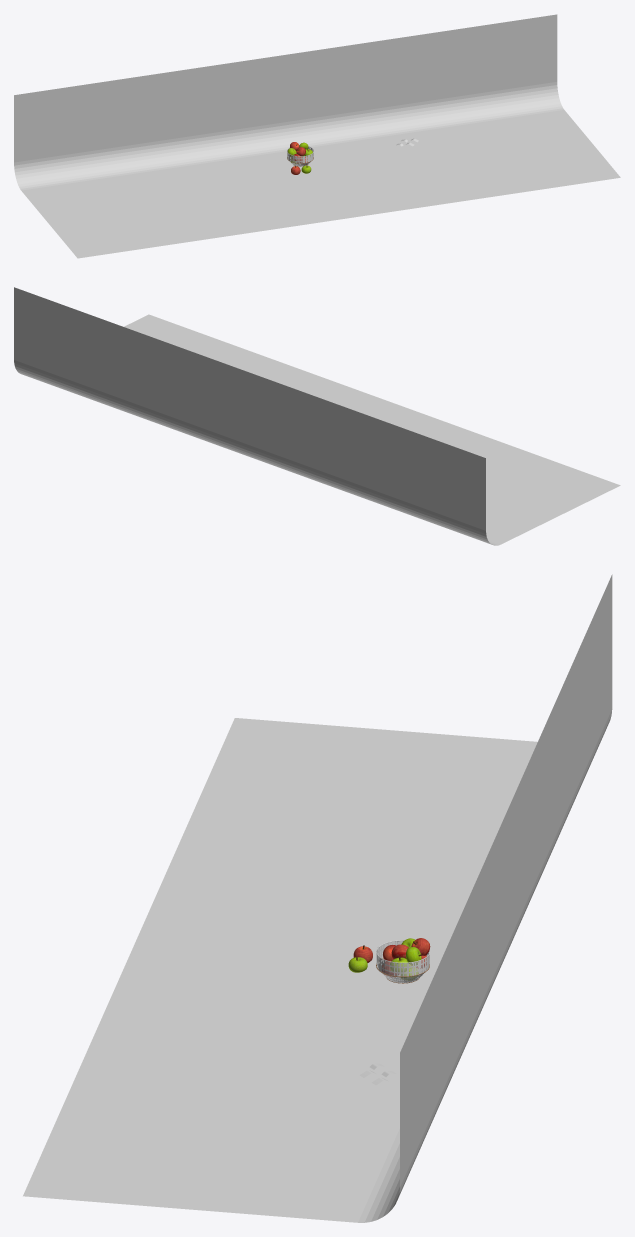
Rendered from basket_full_of_apples.dae.
3 views of the same model, one above another, from view 1: azimuth 30°, elevation 25°; view 2: azimuth 150°, elevation 25°; view 3: azimuth 270°, elevation 25° (orthographic). The views are drawn at different scales.
Parts seen in each view (by area): view 1: Cube; view 2: Cube; view 3: Cube, posuda1.
Part boxes in pixels (bbox=[...]): Cube: bbox=[14, 14, 620, 258]; Cube: bbox=[14, 287, 620, 545]; Cube: bbox=[23, 574, 612, 1222]; posuda1: bbox=[376, 941, 429, 982].
Bounding box in the file's own units: 27.81 × 13.63 × 4.55.
21 materials, 14 textured.
